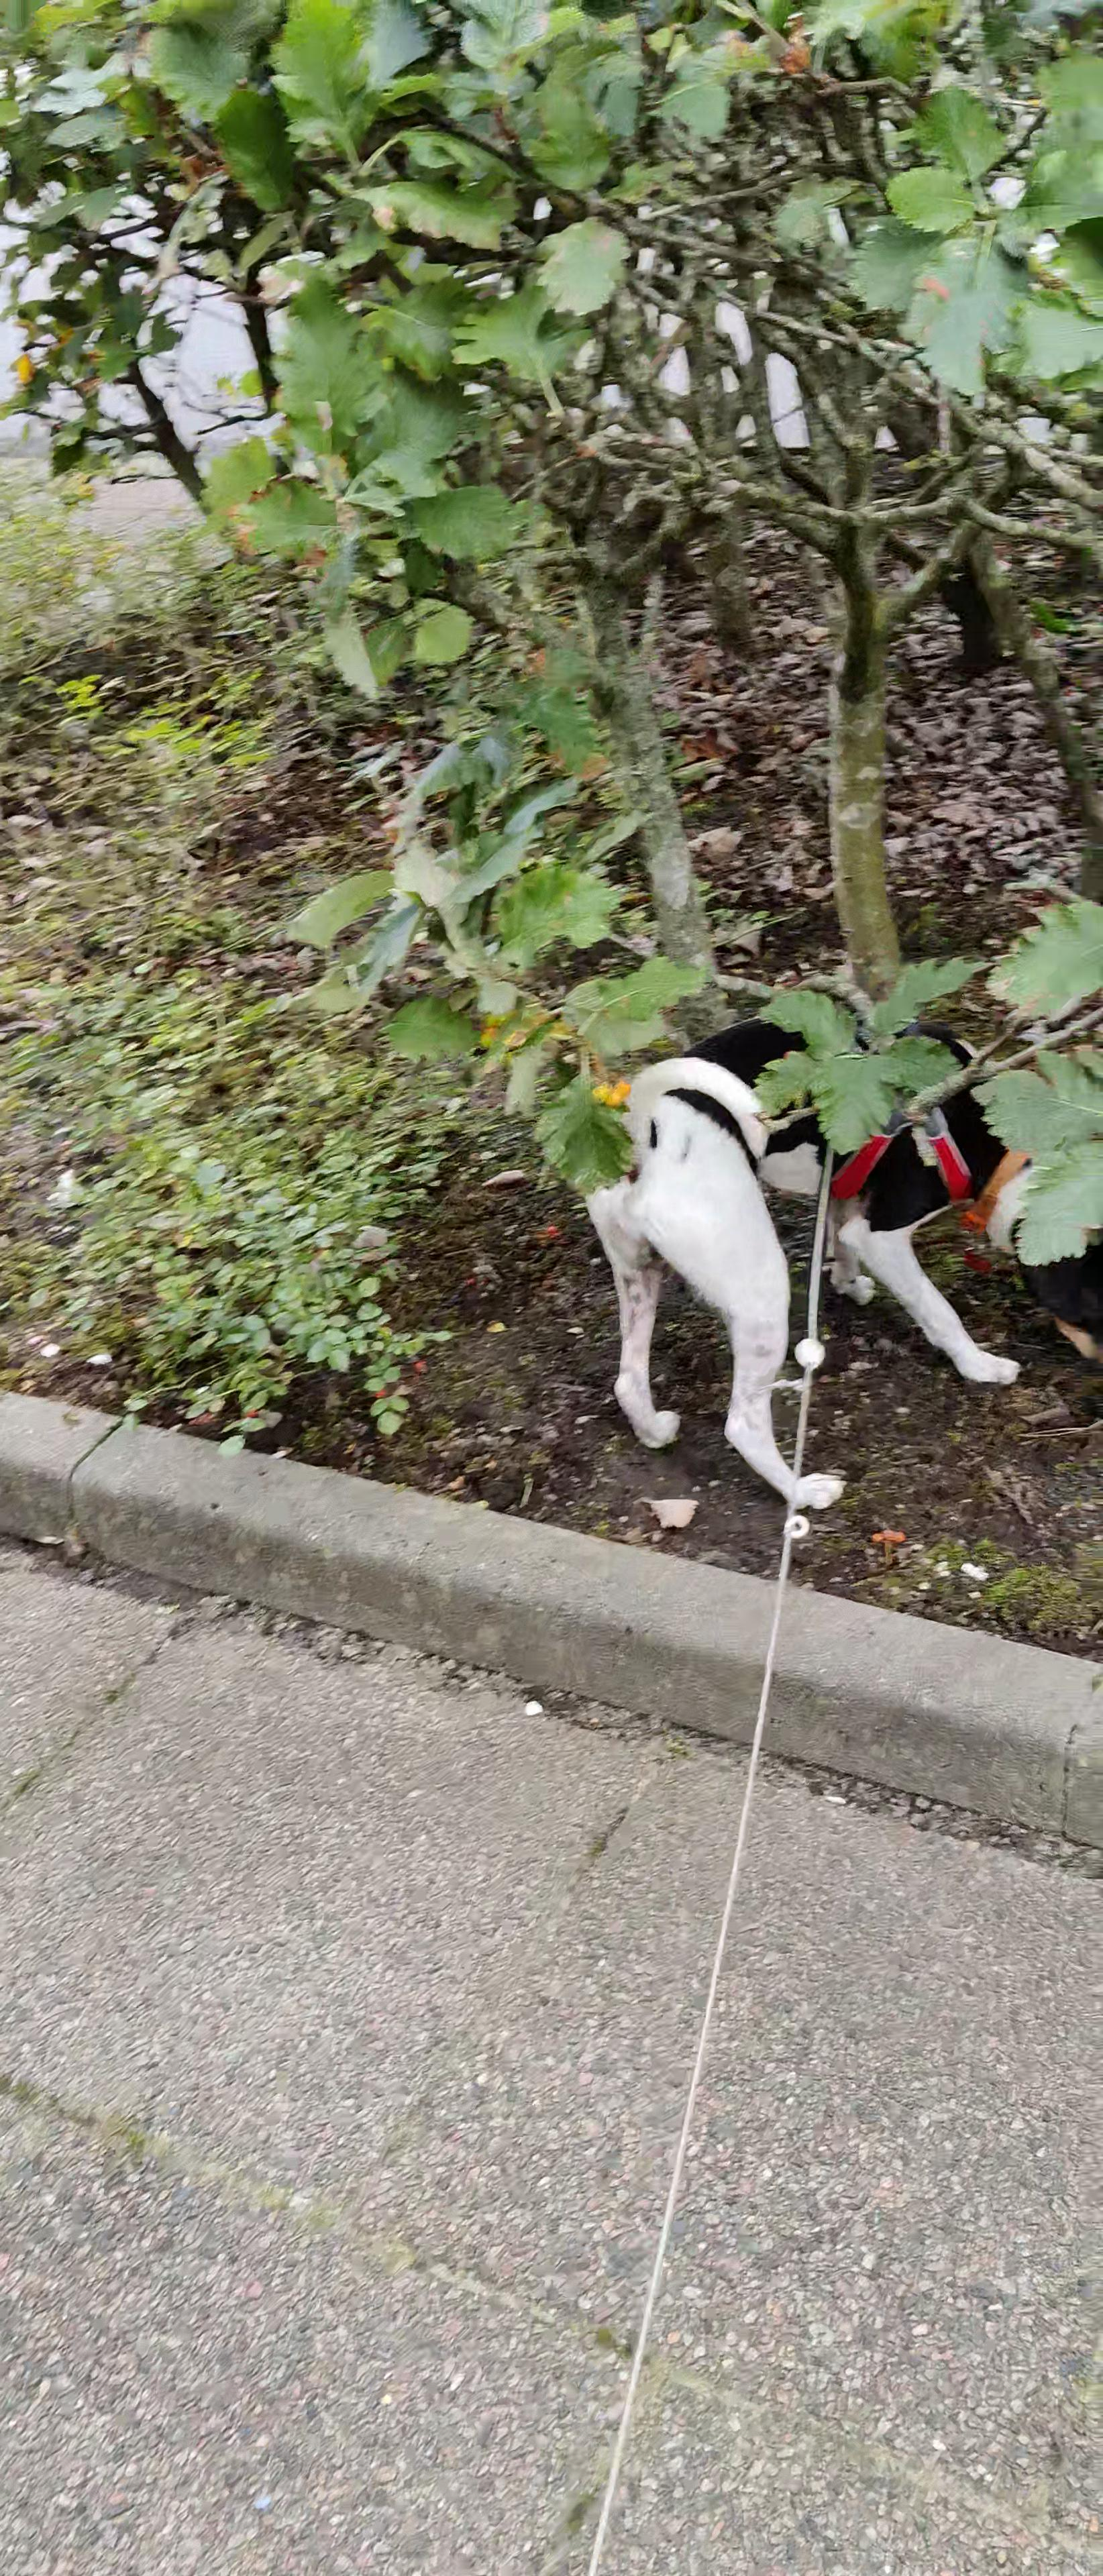Dog: (577, 977, 1103, 1513)
